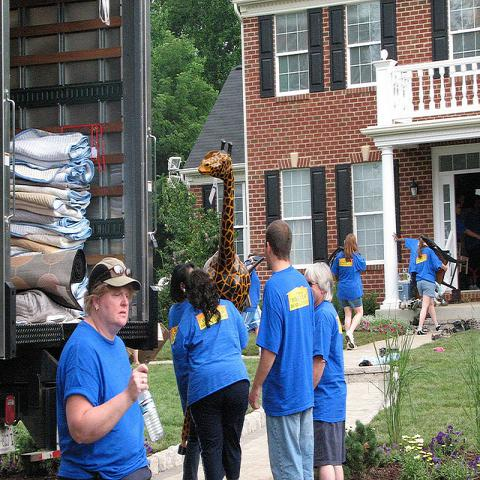truck: (0, 0, 163, 459)
